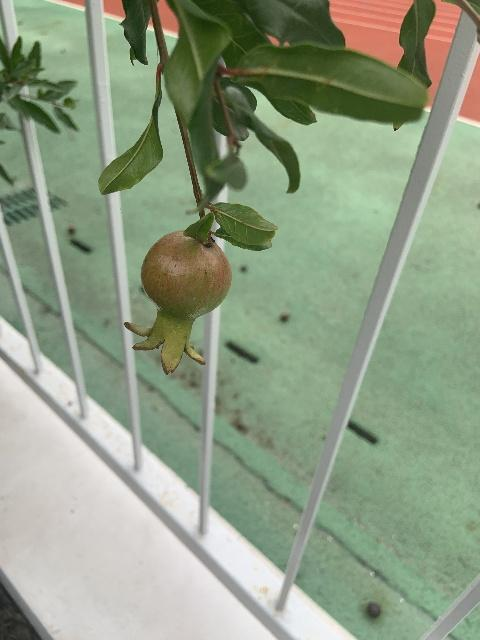early-fruit: (124, 231, 232, 373)
